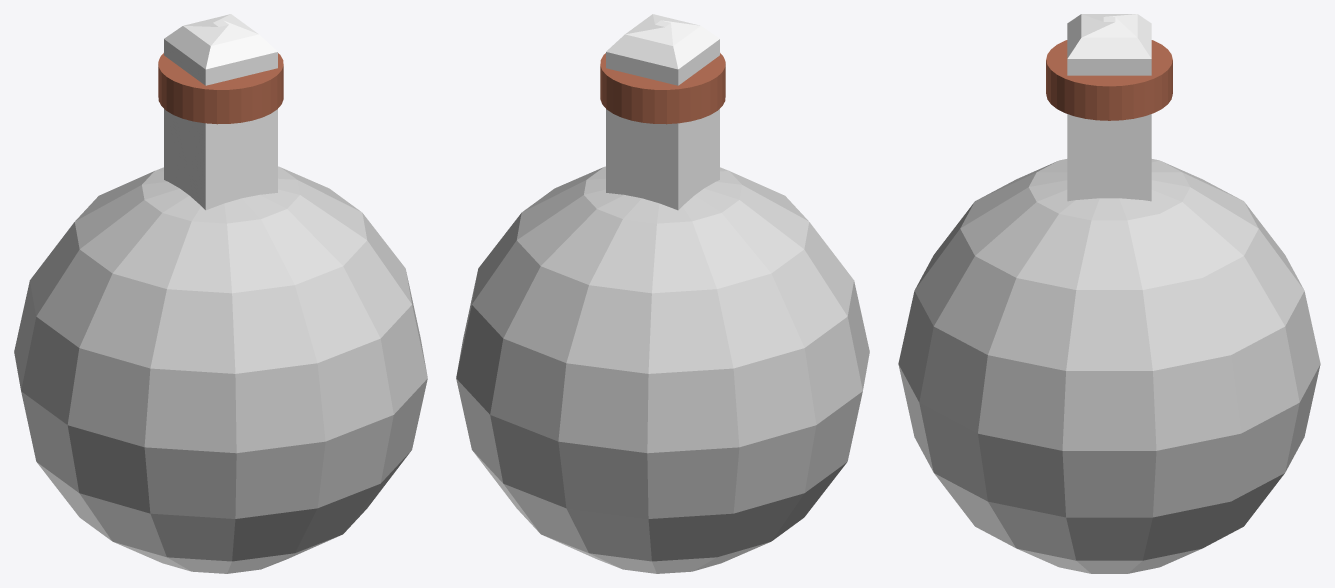
File: 回復ポーション.fbx
The picture shows the model from 3 angles, left to right: view 1: azimuth 30°, elevation 25°; view 2: azimuth 150°, elevation 25°; view 3: azimuth 270°, elevation 25°; orthographic projection.
Visible parts, largest first — view 1: 球.001, 立方体.001, 円柱, 立方体.002; view 2: 球.001, 立方体.001, 円柱, 立方体.002; view 3: 球.001, 立方体.001, 円柱, 立方体.002.
Boxes of the visible parts, x1,y1,x2,y2 form: 球.001: [14, 166, 427, 573]; 立方体.001: [164, 109, 277, 210]; 円柱: [158, 53, 283, 124]; 立方体.002: [164, 14, 277, 85]; 球.001: [456, 166, 869, 573]; 立方体.001: [606, 109, 719, 210]; 円柱: [600, 53, 725, 124]; 立方体.002: [606, 14, 719, 85]; 球.001: [898, 159, 1320, 573]; 立方体.001: [1067, 114, 1151, 201]; 円柱: [1046, 40, 1172, 120]; 立方体.002: [1067, 14, 1151, 75].
Size of the model in its own units: 195 by 280 by 200.
